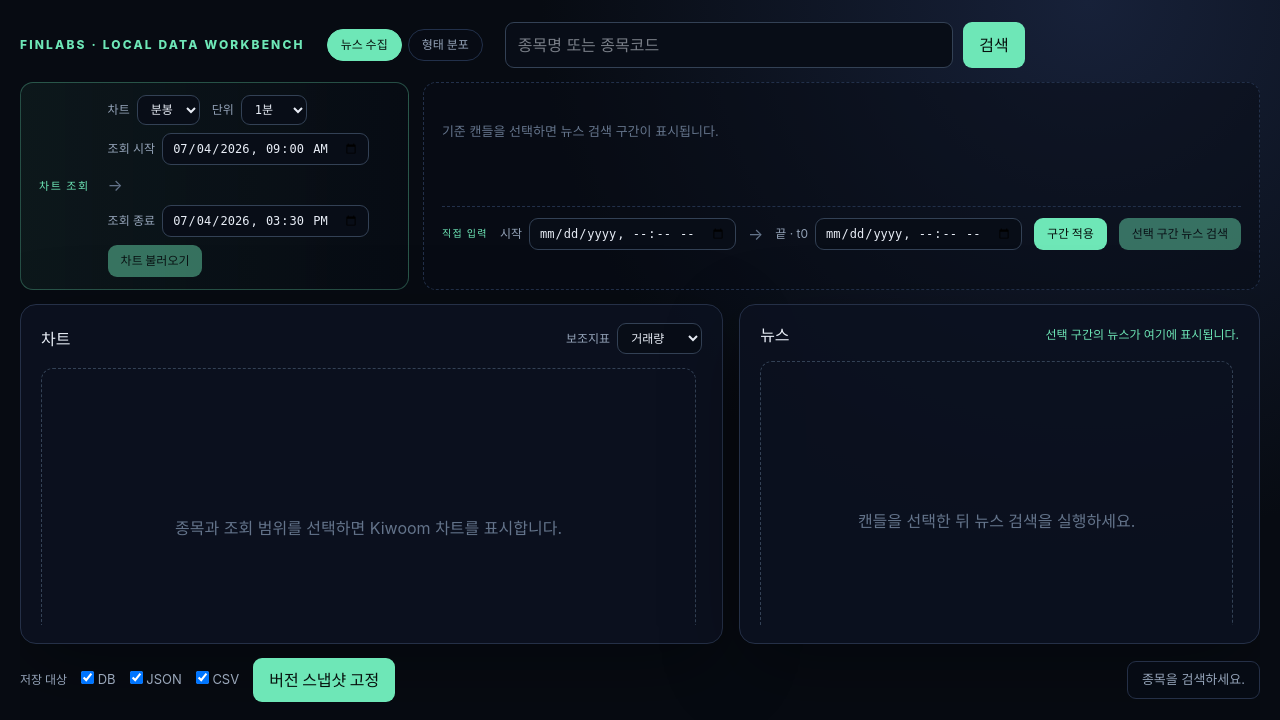
it: App composition root › activates the bridge from a typed news window without a candle click
Type "2026-06-17T08:31" into the field named "뉴스 구간 시작". click: (632, 234)
box: [529,218,736,250]
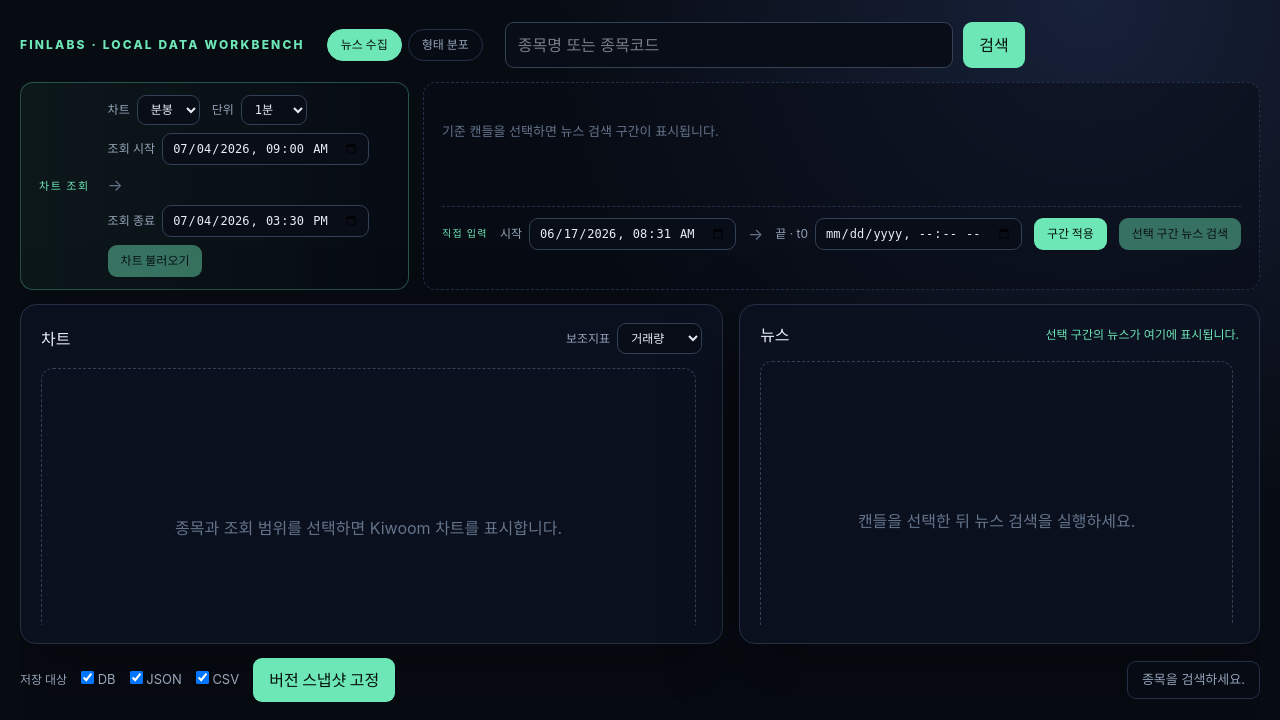
Type "2026-06-17T09:31" into the field named "뉴스 구간 끝 t0". click: (918, 234)
box: [815,218,1022,250]
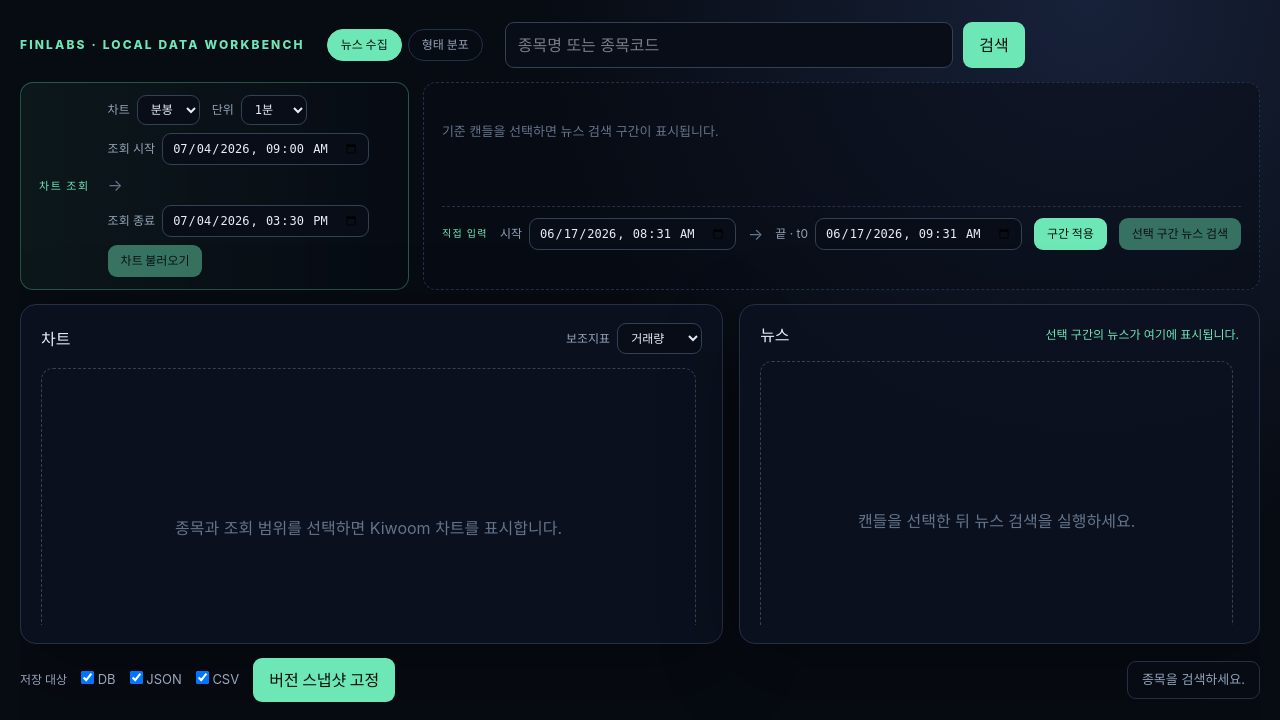
Click the button "구간 적용". click: (1070, 234)
box: [1034,218,1107,250]
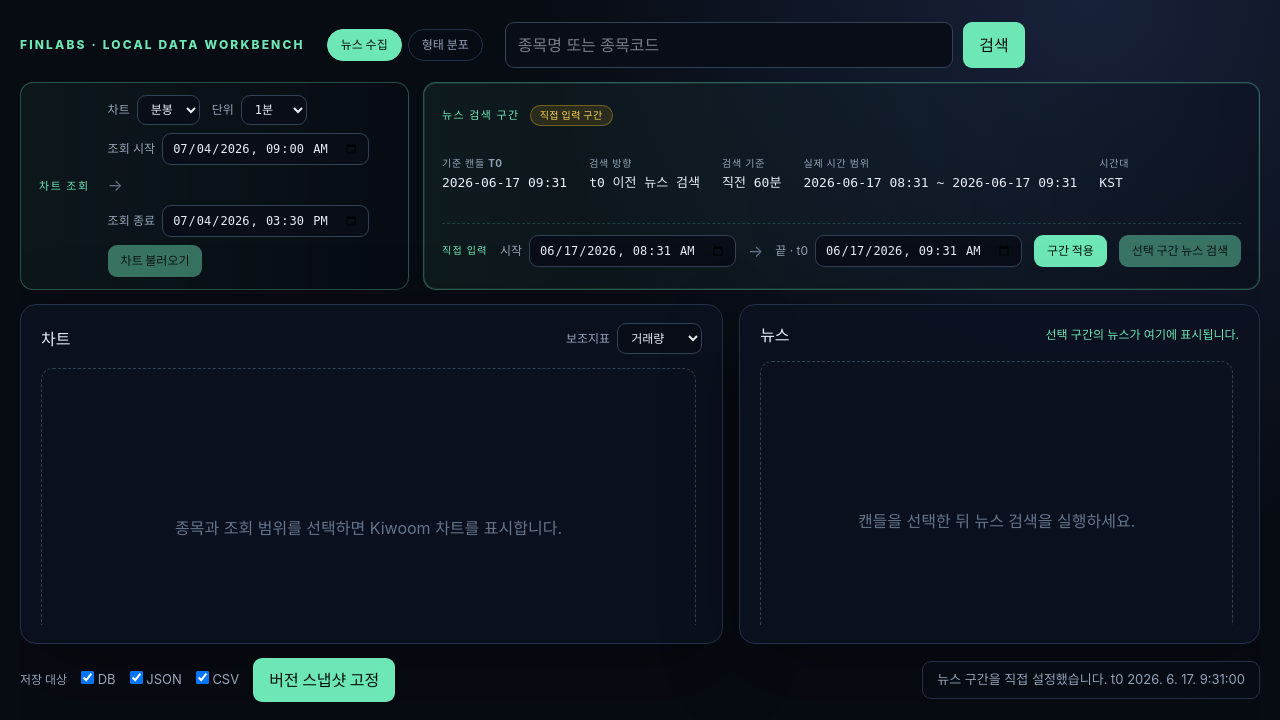
Expected: the element with test id "selected-candle" shows "뉴스 검색 구간", [442,108,520,122]
Now the text "뉴스 구간을 직접 설정했습니다. t0 2026. 6. 17. 9:31:00" is shown, box [922,661,1260,699]
